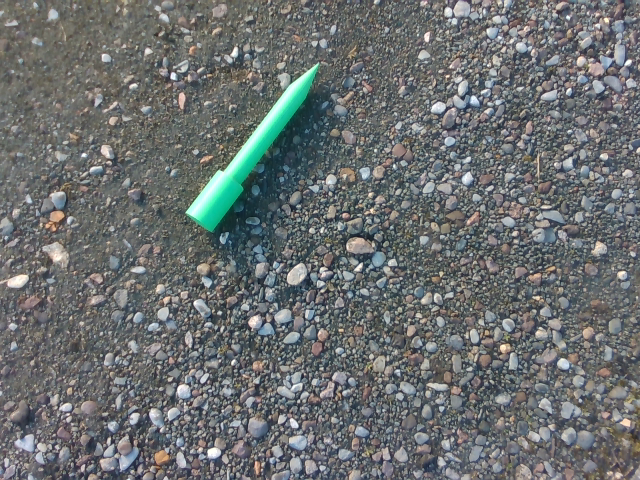Probe: (183, 58, 323, 235)
